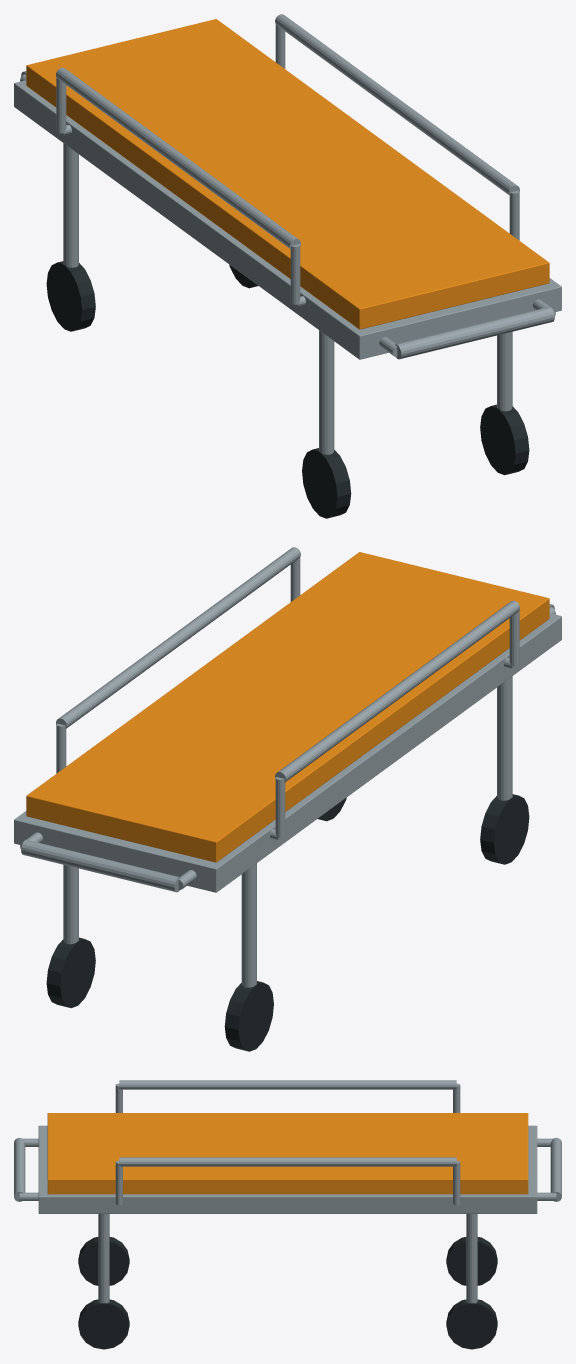
File: stretcher.glb
3 renders of one model, top to bottom at view 1: azimuth 30°, elevation 25°; view 2: azimuth 150°, elevation 25°; view 3: azimuth 270°, elevation 25°, orthographic. The views are drawn at different scales.
Parts seen in each view (by area): view 1: Thin_Pad, Transport_Frame, Side_Rail, Side_Rail.001, Caster.002, Caster.001, Caster.003, Carry_Handle.001, Leg.001, Leg, Leg.002, Rail_Brace; view 2: Thin_Pad, Transport_Frame, Side_Rail, Side_Rail.001, Caster.001, Caster.002, Caster, Carry_Handle, Leg, Leg.001, Leg.003, Rail_Brace.001; view 3: Thin_Pad, Transport_Frame, Side_Rail, Side_Rail.001, Caster, Caster.003, Caster.001, Caster.002, Leg.002, Leg.003, Carry_Handle.001, Carry_Handle.
Boxes of the visible parts, box(x1,y1,x2,y2) form: Thin_Pad: box(26, 19, 549, 329); Transport_Frame: box(14, 80, 561, 359); Side_Rail: box(56, 67, 300, 249); Side_Rail.001: box(275, 14, 519, 195); Caster.002: box(46, 261, 95, 331); Caster.001: box(302, 448, 351, 518); Caster.003: box(480, 404, 529, 475); Carry_Handle.001: box(395, 307, 554, 359); Leg.001: box(63, 143, 78, 267); Leg: box(319, 330, 334, 454); Leg.002: box(497, 332, 512, 411); Rail_Brace: box(290, 244, 300, 304); Thin_Pad: box(26, 552, 549, 862); Transport_Frame: box(14, 613, 561, 892); Side_Rail: box(275, 600, 519, 782); Side_Rail.001: box(56, 547, 300, 728); Caster.001: box(480, 794, 529, 864); Caster.002: box(224, 981, 273, 1051); Caster: box(46, 937, 95, 1008); Carry_Handle: box(21, 840, 180, 892); Leg: box(497, 676, 512, 800); Leg.001: box(241, 863, 256, 987); Leg.003: box(63, 865, 78, 944); Rail_Brace.001: box(275, 777, 285, 837); Thin_Pad: box(47, 1113, 528, 1194); Transport_Frame: box(38, 1125, 537, 1213); Side_Rail: box(119, 1080, 456, 1089); Side_Rail.001: box(119, 1157, 456, 1166); Caster: box(446, 1299, 497, 1349); Caster.003: box(78, 1299, 129, 1349); Caster.001: box(78, 1237, 129, 1285); Caster.002: box(446, 1237, 497, 1285); Leg.002: box(98, 1214, 109, 1303); Leg.003: box(466, 1214, 477, 1303); Carry_Handle.001: box(14, 1137, 25, 1201); Carry_Handle: box(550, 1137, 561, 1201).
Bounding box in the file's own units: 0.7494 × 0.848 × 2.14.
